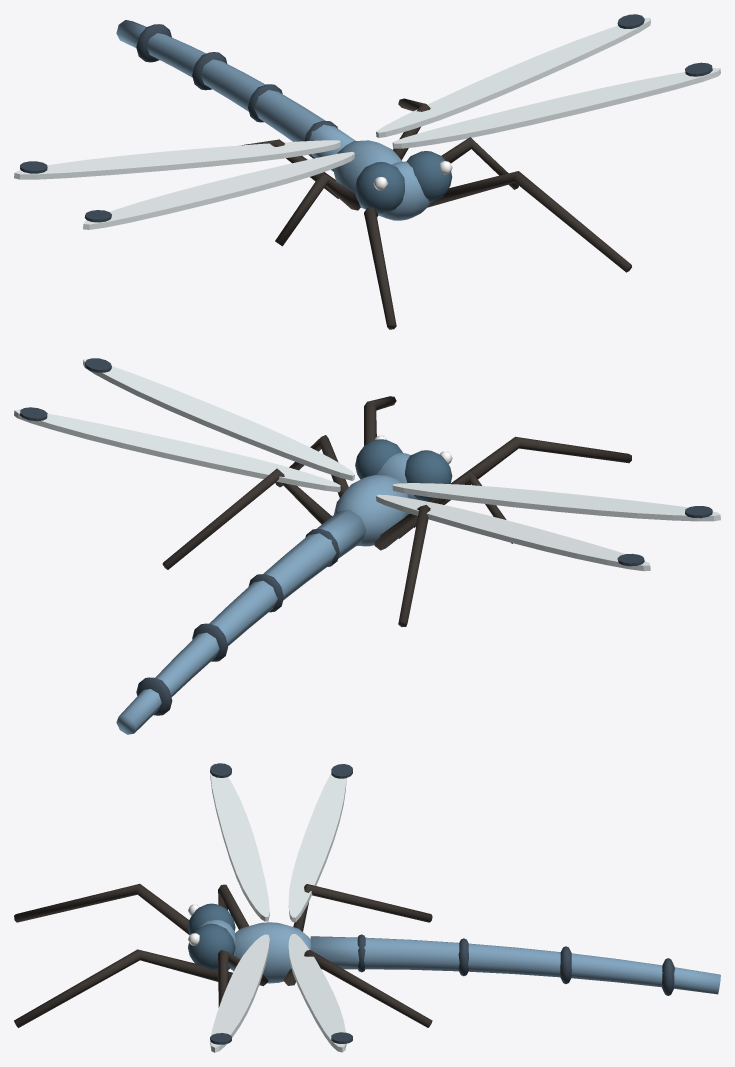
Rendered from bug-skimmer.glb.
3 renders of one model, top to bottom at view 1: azimuth 30°, elevation 25°; view 2: azimuth 150°, elevation 25°; view 3: azimuth 270°, elevation 25°, orthographic. The views are drawn at different scales.
Parts seen in each view (by area): view 1: bug; view 2: bug; view 3: bug.
Boxes of the visible parts, left/top/right/bottom form: bug: left=14, top=14, right=720, bottom=329; bug: left=14, top=358, right=720, bottom=734; bug: left=14, top=763, right=720, bottom=1052.
Size of the model in its own units: 0.3761 by 0.0564 by 0.3943.
